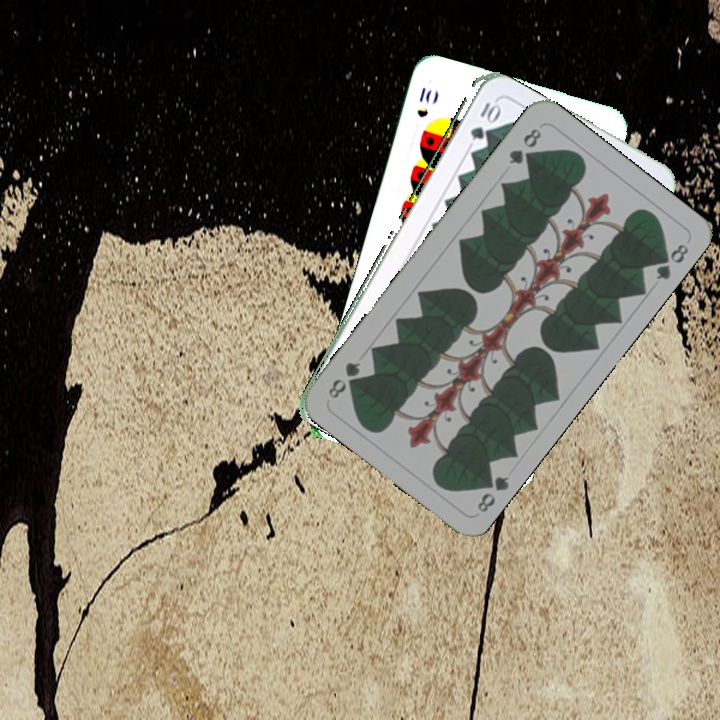G10: (466, 97, 500, 142)
G8: (473, 469, 512, 515), (504, 124, 544, 167)
S10: (413, 83, 434, 121)
